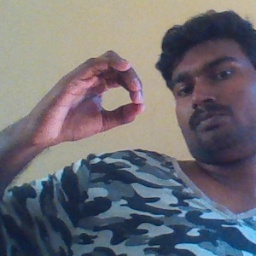O: (35, 45, 146, 146)
